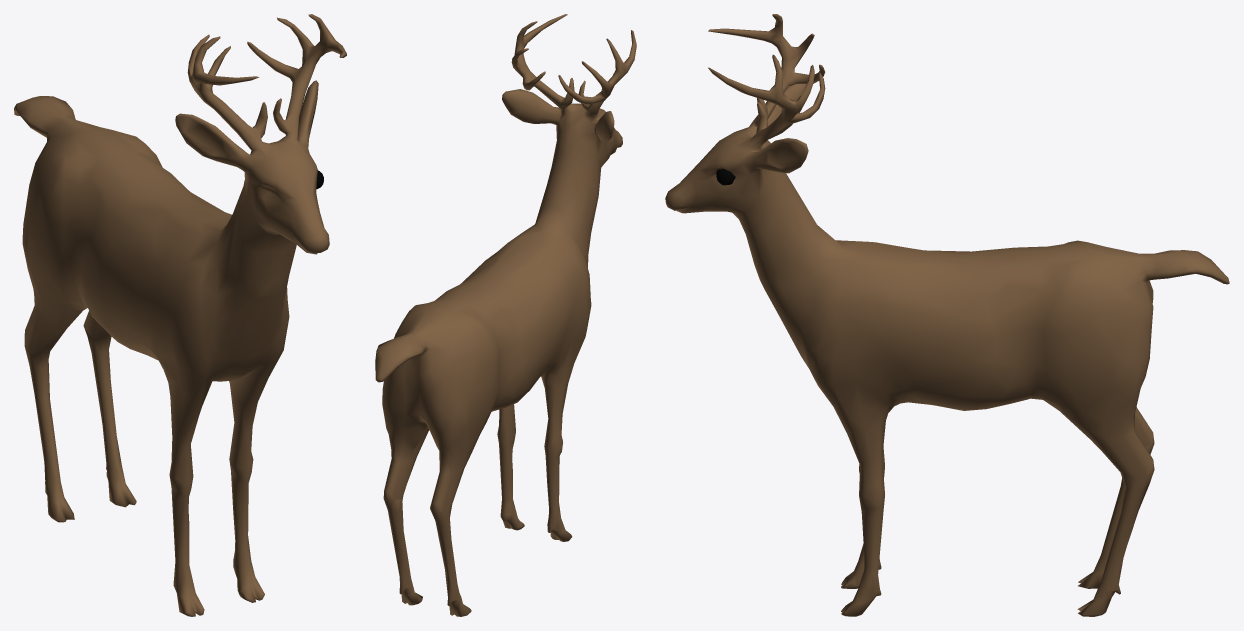
File: buck01.dae
3 views of the same model, side by side, from view 1: azimuth 30°, elevation 25°; view 2: azimuth 150°, elevation 25°; view 3: azimuth 270°, elevation 25° (orthographic). The views are drawn at different scales.
Parts seen in each view (by area): view 1: Deer-lowP; view 2: Deer-lowP; view 3: Deer-lowP.
Part boxes in pixels (x1=…): Deer-lowP: x1=14, y1=14, x2=346, y2=616; Deer-lowP: x1=375, y1=14, x2=636, y2=616; Deer-lowP: x1=665, y1=14, x2=1229, y2=616.
Bounding box in the file's own units: 1.82 × 6.76 × 7.48.
